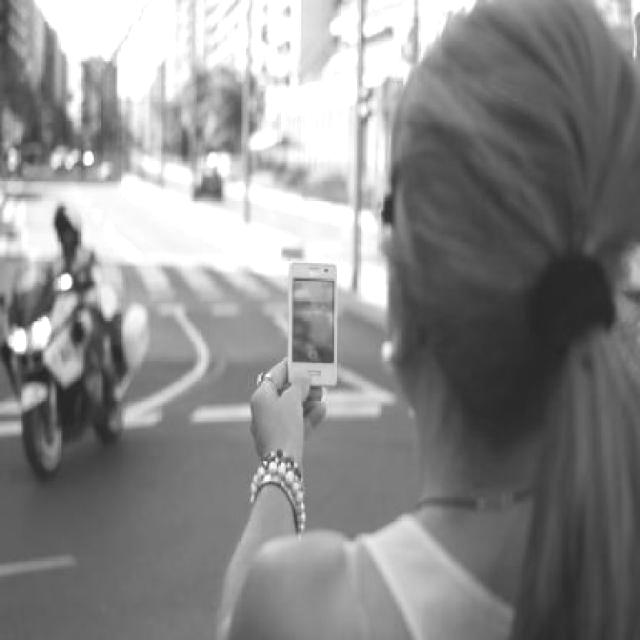fake: (272, 258, 340, 396)
